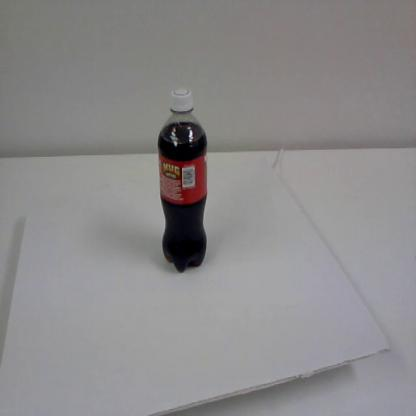bottle: (157, 87, 208, 274)
